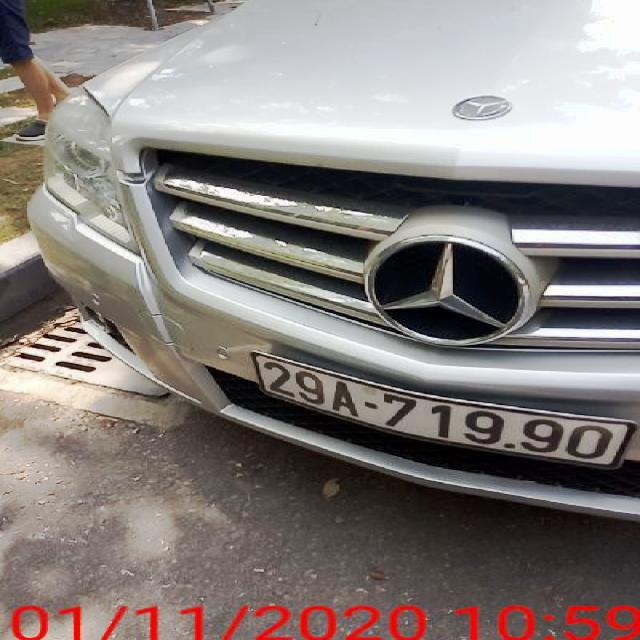license_plate: (254, 354, 636, 472)
